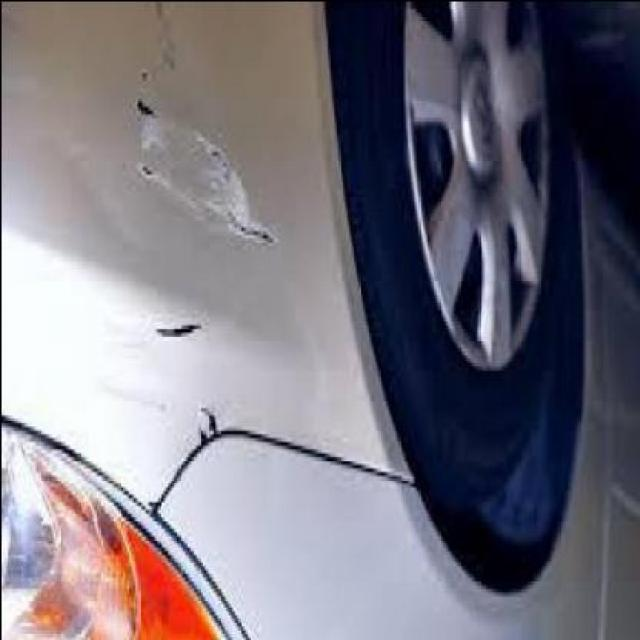damage: (130, 90, 279, 241), (147, 320, 201, 339)
